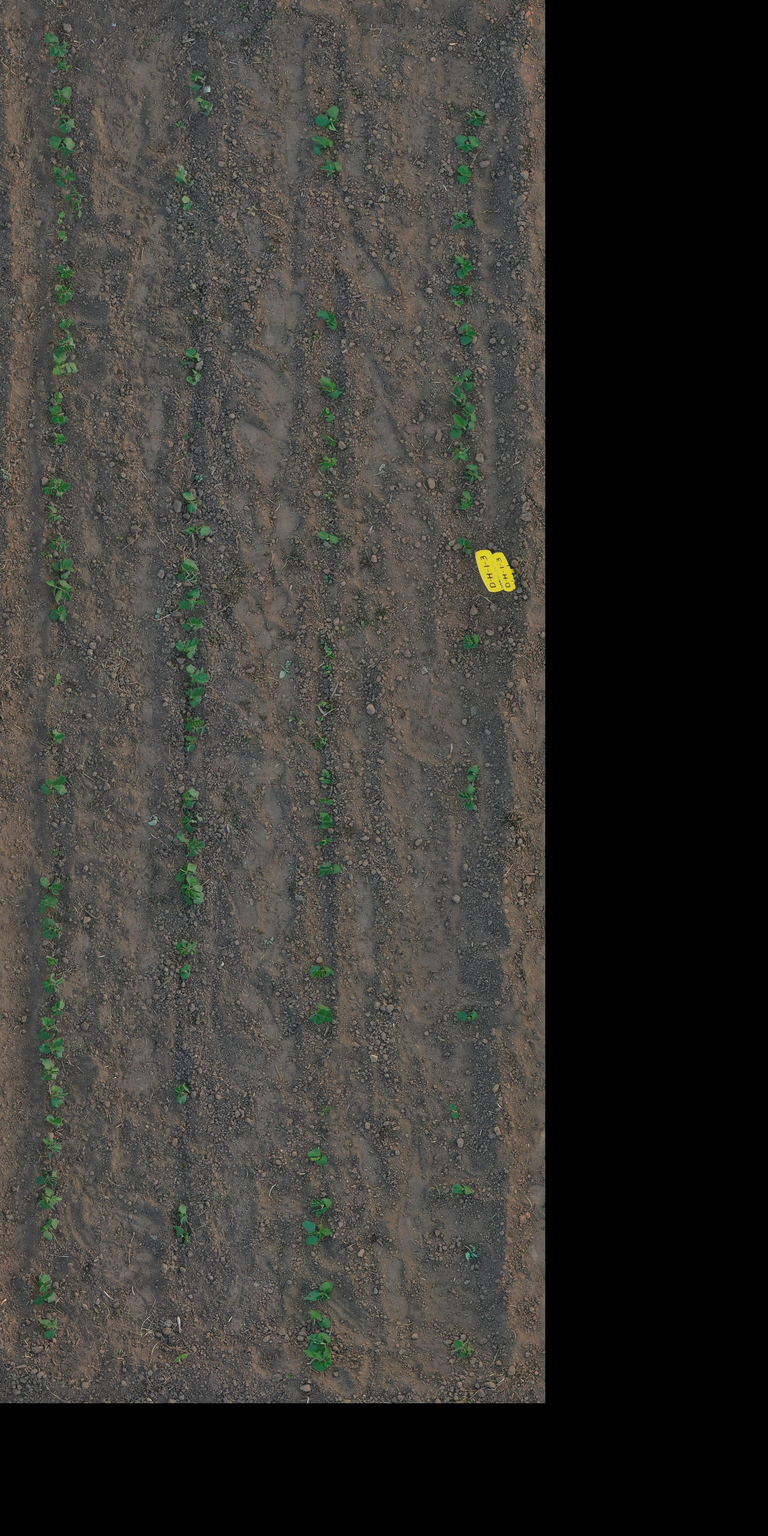s: (301, 1220, 332, 1246), (180, 874, 205, 906), (52, 348, 78, 377), (176, 832, 206, 857), (314, 105, 340, 132), (45, 579, 74, 603), (177, 587, 206, 611), (303, 1349, 333, 1372), (177, 558, 201, 586), (303, 1281, 334, 1302), (449, 414, 475, 439), (41, 477, 71, 498), (44, 32, 68, 58), (320, 376, 346, 400), (48, 136, 76, 158), (449, 368, 474, 392), (174, 636, 199, 660), (306, 1332, 332, 1355), (40, 775, 68, 796), (185, 664, 210, 687), (37, 1187, 62, 1210), (308, 1002, 334, 1024), (38, 1037, 65, 1058), (51, 558, 75, 580), (48, 532, 73, 553), (458, 783, 476, 812), (454, 134, 481, 153), (184, 714, 207, 736), (40, 917, 62, 940), (181, 810, 203, 833), (42, 1136, 63, 1160), (39, 1058, 60, 1081), (309, 1196, 332, 1217), (454, 256, 474, 280), (457, 322, 477, 346), (40, 876, 64, 896), (42, 974, 66, 994), (40, 1218, 60, 1242), (449, 211, 474, 230), (54, 283, 75, 305), (316, 310, 338, 331), (184, 686, 205, 708), (311, 135, 334, 155), (174, 862, 197, 882), (38, 1016, 56, 1041), (50, 86, 72, 106), (449, 442, 471, 462), (38, 894, 60, 914), (38, 1317, 58, 1339), (50, 1085, 69, 1108), (57, 330, 75, 354), (48, 404, 68, 425), (307, 1146, 328, 1166), (188, 70, 207, 92), (182, 491, 200, 514), (36, 1169, 59, 1187), (56, 114, 76, 134), (194, 95, 213, 116), (453, 1338, 472, 1359), (310, 1309, 331, 1328), (320, 160, 342, 178), (181, 616, 203, 634), (450, 385, 467, 408), (318, 453, 338, 472), (182, 787, 200, 808), (317, 862, 342, 877), (309, 965, 334, 980), (48, 604, 68, 622), (32, 1290, 56, 1305), (465, 109, 486, 126), (176, 940, 198, 956), (174, 1082, 190, 1104), (456, 536, 474, 555), (46, 728, 66, 745), (456, 164, 472, 185), (449, 284, 474, 297), (462, 464, 480, 482), (55, 263, 74, 280), (317, 530, 340, 544), (174, 170, 194, 186), (461, 402, 477, 422), (457, 490, 473, 510), (184, 525, 212, 536), (316, 812, 334, 829), (45, 505, 62, 522), (462, 634, 480, 650), (456, 1010, 480, 1022), (50, 998, 65, 1017), (46, 1114, 64, 1129), (38, 1274, 52, 1293), (185, 348, 203, 362), (320, 434, 338, 448), (176, 1204, 188, 1225), (51, 432, 68, 446), (466, 765, 480, 782), (58, 317, 76, 330), (451, 1184, 472, 1195), (321, 406, 335, 422), (184, 736, 198, 752), (318, 768, 332, 784), (172, 1225, 189, 1238), (323, 644, 336, 660), (179, 964, 192, 980), (56, 58, 72, 70), (180, 195, 192, 211), (448, 1102, 459, 1119), (317, 1105, 332, 1116), (317, 836, 333, 846), (317, 701, 334, 710), (318, 736, 330, 748), (318, 797, 334, 806), (53, 391, 64, 404), (186, 375, 199, 386), (192, 368, 202, 382), (173, 1354, 188, 1363), (56, 211, 66, 224), (58, 230, 68, 242), (46, 956, 58, 966), (322, 493, 335, 502), (321, 664, 332, 674), (54, 673, 62, 686), (183, 1234, 192, 1245), (52, 848, 60, 856), (316, 716, 324, 722)
